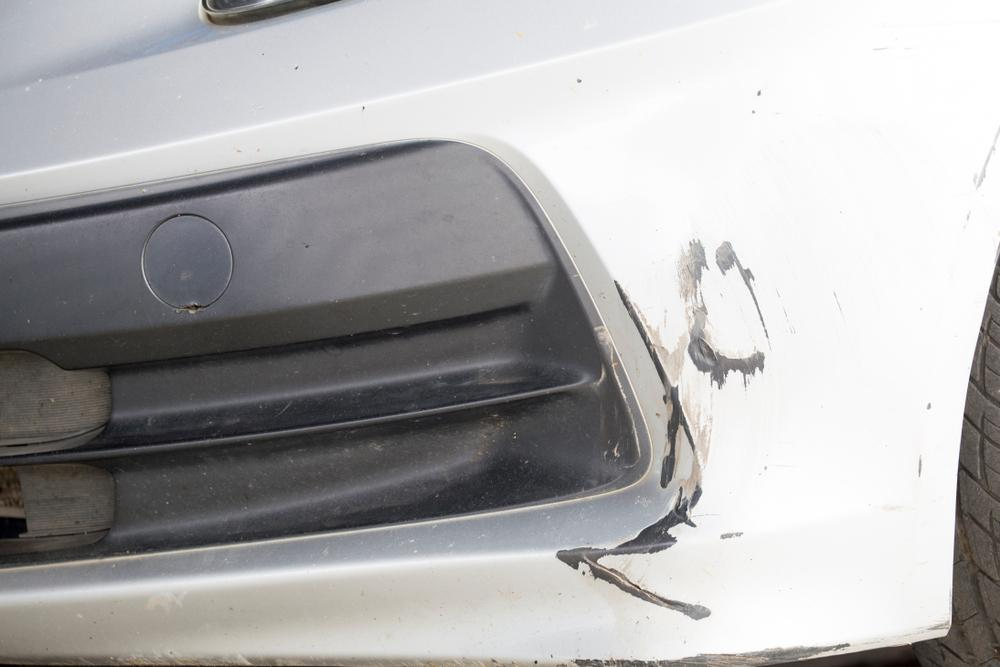scratch: (549, 231, 775, 622), (566, 638, 855, 667)
